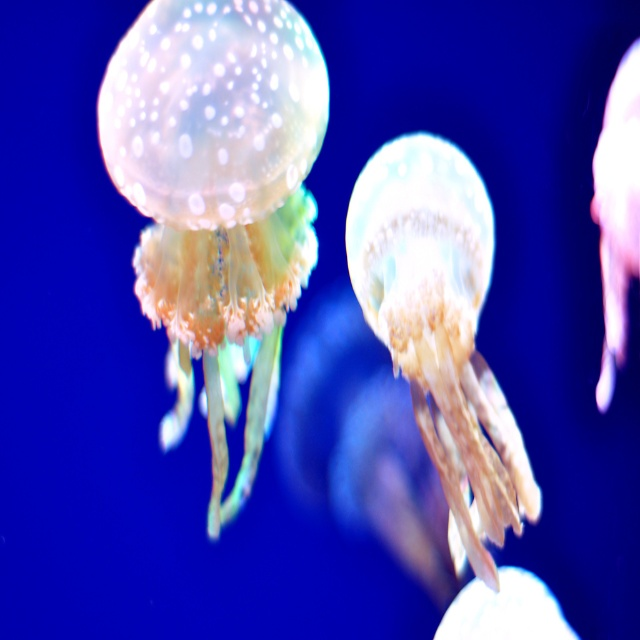Jellyfish: (94, 0, 329, 539), (345, 131, 544, 590)
